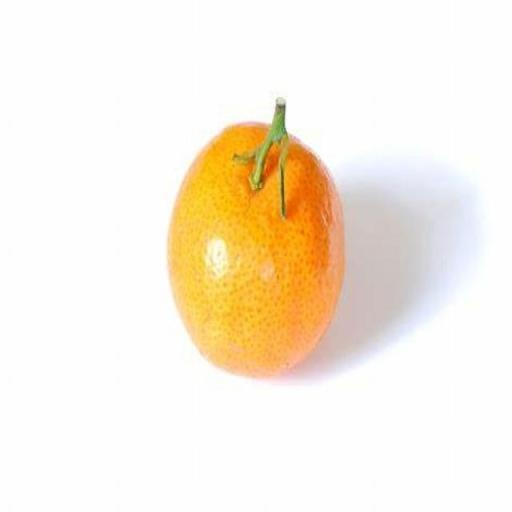fruit: (231, 149, 429, 496)
